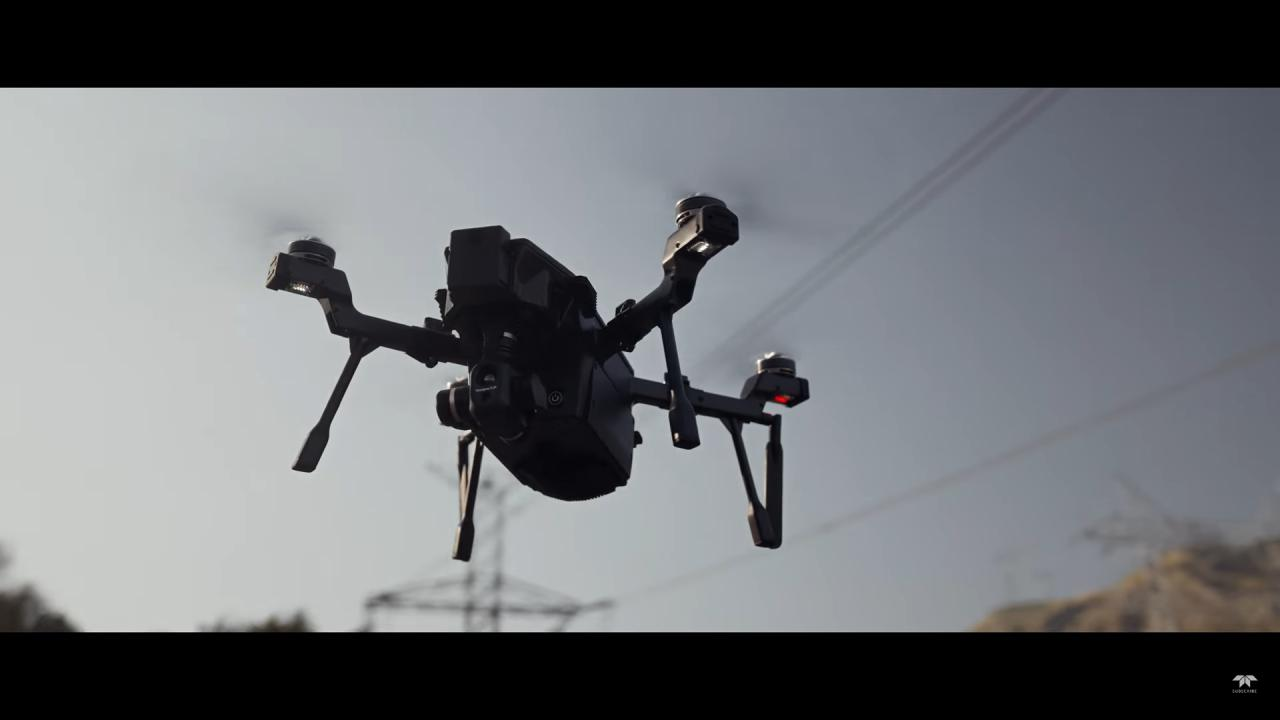Drone: (209, 128, 882, 581)
